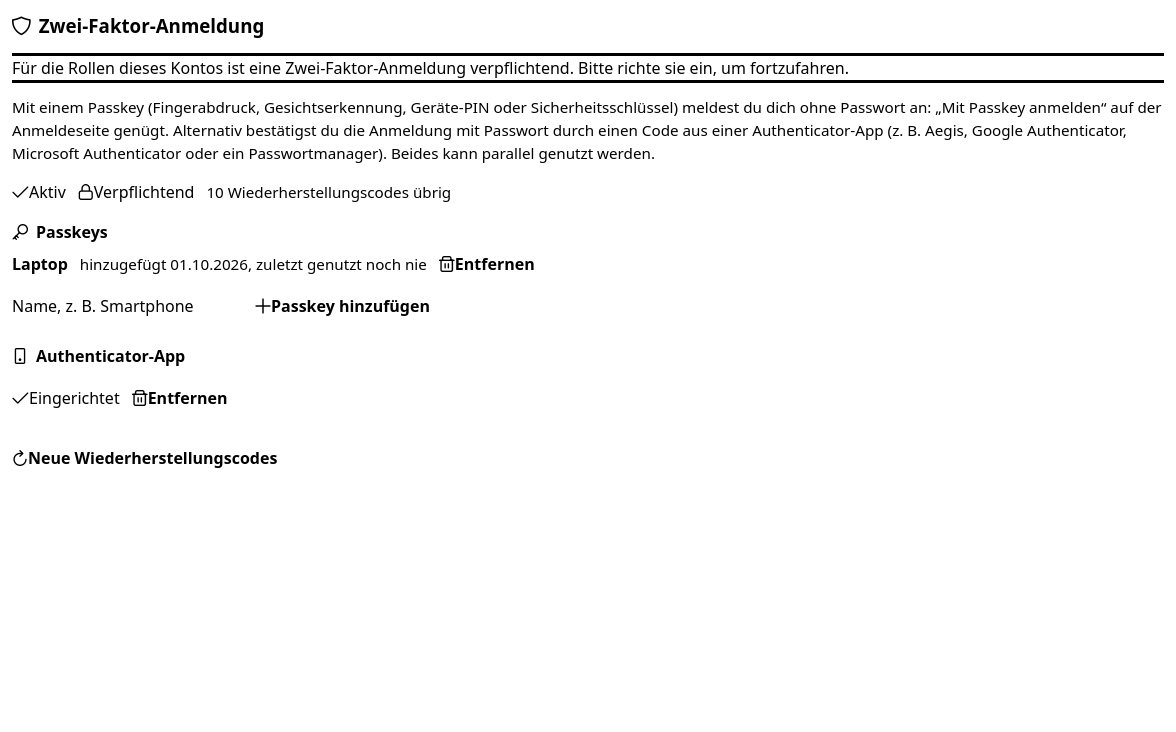
MfaSettings › removes a passkey when another factor remains
Click the button with aria-label "Passkey Laptop entfernen".
click(487, 264)  # box [439,254,535,276]
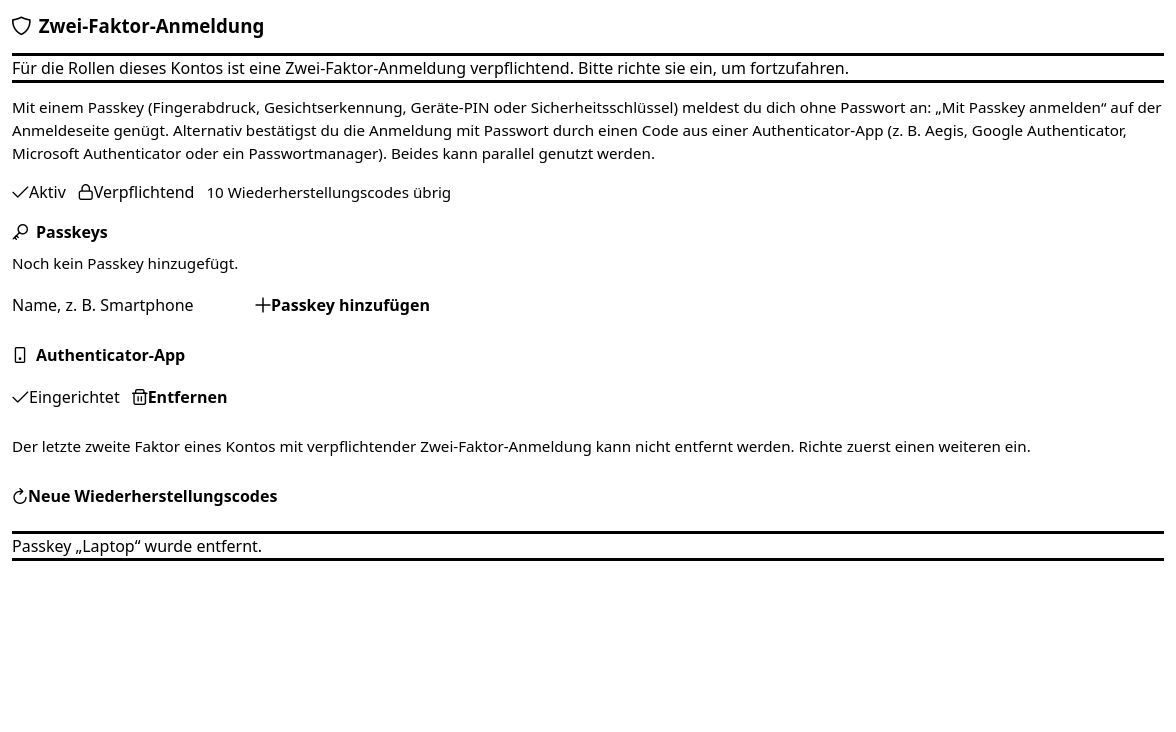
Now the text "Noch kein Passkey" is shown, box [12,254,238,274]
